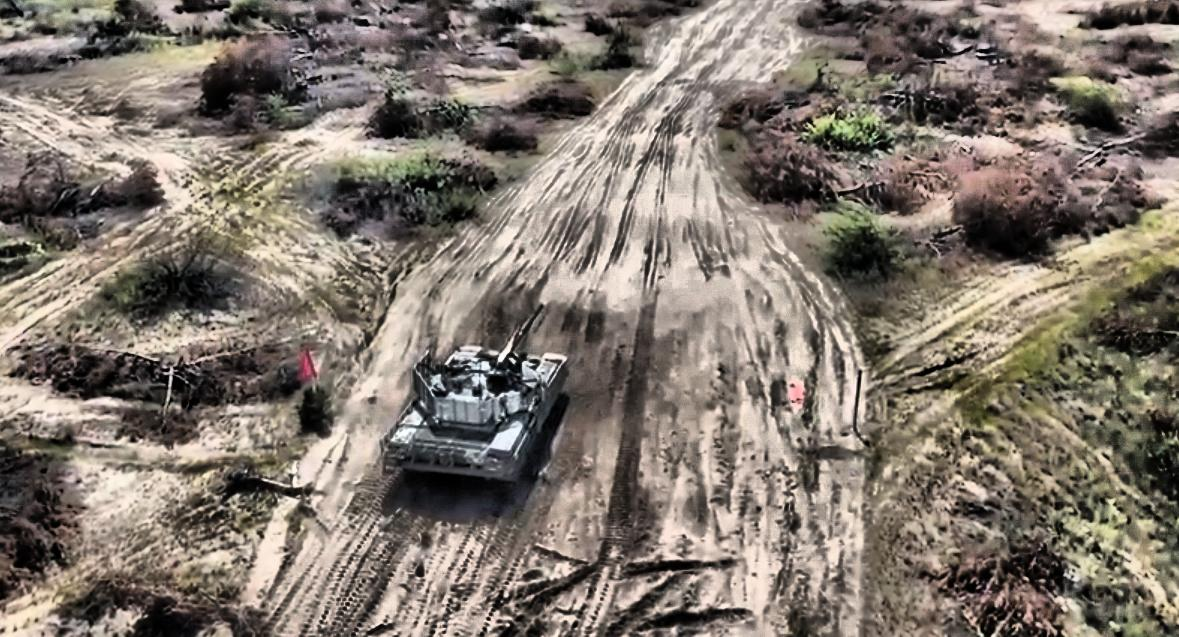military-vehicle: (383, 306, 567, 484)
